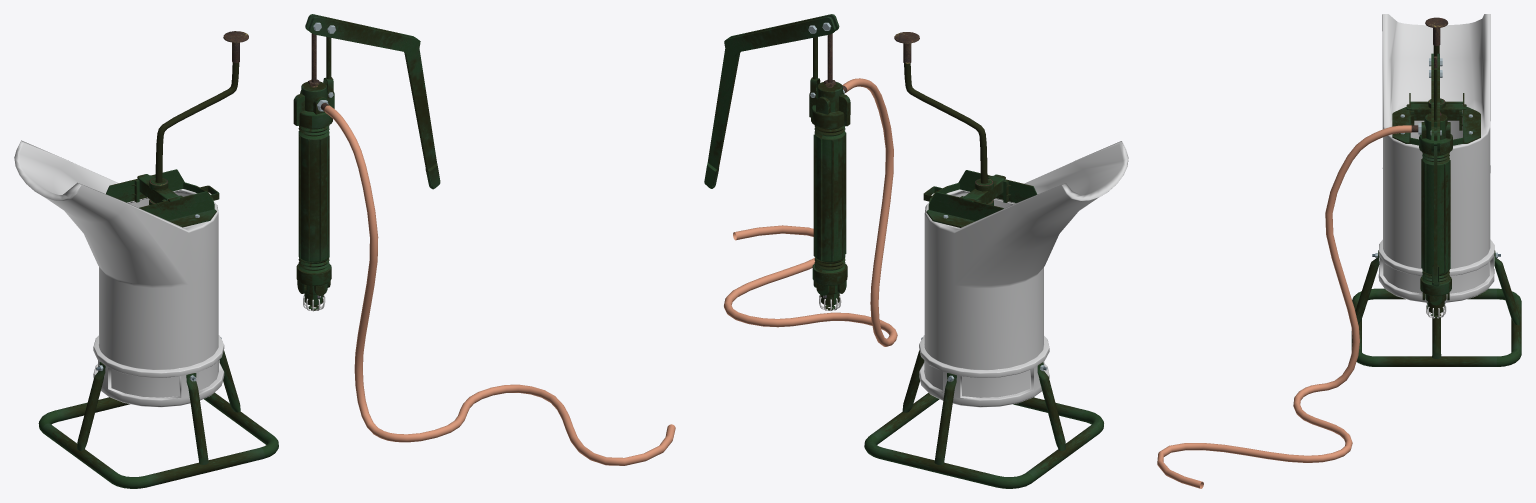
The model's file is Bucket.fbx.
3 renders of one model, left to right at view 1: azimuth 30°, elevation 25°; view 2: azimuth 150°, elevation 25°; view 3: azimuth 270°, elevation 25°, orthographic. The views are drawn at different scales.
Visible parts, largest first — view 1: pCylinder1, nurbsToSubd12, Base, pCylinder7, polySurface5, polySurface46, polySurface45, Strutt03 (×2), nurbsToSubd2, pCylinder14, pCylinder9; view 2: pCylinder1, nurbsToSubd12, Base, pCylinder7, polySurface5, Strutt03 (×3), polySurface46, polySurface47, nurbsToSubd2, pCylinder14, pCylinder9, pCube4; view 3: pCylinder1, nurbsToSubd12, Base, pCylinder7, Strutt03 (×2), polySurface5, pCylinder14, polySurface46, pCube4, pCylinder9, nurbsToSubd2.
Boxes of the visible parts, <box> form: pCylinder1: <box>14,140,224,407</box>; nurbsToSubd12: <box>324,105,675,465</box>; Base: <box>38,392,278,488</box>; pCylinder7: <box>298,133,329,262</box>; polySurface5: <box>106,169,216,227</box>; polySurface46: <box>404,37,440,189</box>; polySurface45: <box>308,16,420,56</box>; Strutt03 (×2): <box>77,362,208,464</box>; nurbsToSubd2: <box>155,31,248,182</box>; pCylinder14: <box>299,81,332,128</box>; pCylinder9: <box>296,264,331,305</box>; pCylinder1: <box>919,141,1128,407</box>; nurbsToSubd12: <box>724,78,897,346</box>; Base: <box>864,393,1103,488</box>; pCylinder7: <box>813,132,846,262</box>; polySurface5: <box>926,170,1037,227</box>; Strutt03 (×3): <box>902,350,1065,464</box>; polySurface46: <box>704,37,740,188</box>; polySurface47: <box>724,16,835,56</box>; nurbsToSubd2: <box>894,32,987,183</box>; pCylinder14: <box>811,82,844,128</box>; pCylinder9: <box>812,264,847,305</box>; pCube4: <box>962,174,1005,203</box>; pCylinder1: <box>1378,14,1494,302</box>; nurbsToSubd12: <box>1157,125,1411,488</box>; Base: <box>1351,288,1521,366</box>; pCylinder7: <box>1421,159,1450,274</box>; Strutt03 (×2): <box>1355,250,1519,325</box>; polySurface5: <box>1392,93,1480,145</box>; pCylinder14: <box>1419,113,1452,155</box>; polySurface46: <box>1432,140,1439,286</box>; pCube4: <box>1406,103,1466,120</box>; pCylinder9: <box>1420,276,1451,313</box>; nurbsToSubd2: <box>1425,17,1448,56</box>.
Bounding box in the file's own units: 43.4 × 31.54 × 30.14.
